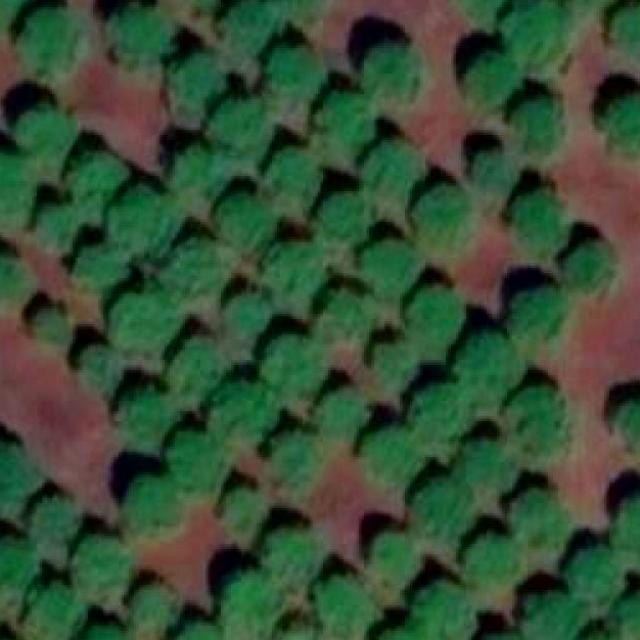Tree: (502, 383, 571, 455), (108, 188, 178, 258), (507, 186, 574, 258), (359, 43, 428, 112), (108, 288, 178, 355), (502, 0, 566, 72), (19, 5, 84, 72), (311, 572, 377, 637), (159, 237, 229, 297), (211, 380, 272, 445), (311, 189, 372, 254), (103, 0, 173, 56), (509, 585, 579, 640), (116, 380, 178, 442), (410, 380, 469, 445), (410, 184, 469, 248), (507, 484, 569, 544), (561, 234, 623, 294), (21, 580, 86, 636), (264, 334, 323, 394), (418, 577, 474, 640), (507, 91, 566, 150), (264, 43, 323, 102), (122, 472, 178, 534), (159, 430, 221, 486), (67, 534, 129, 590), (221, 567, 277, 629), (461, 532, 523, 588), (357, 238, 421, 292), (362, 140, 423, 196), (413, 474, 469, 534), (459, 436, 515, 496), (170, 339, 224, 401), (408, 283, 462, 343), (364, 528, 423, 582), (458, 334, 517, 388), (262, 240, 323, 292), (515, 288, 577, 338), (267, 426, 318, 486), (216, 192, 272, 246), (170, 54, 224, 110), (316, 94, 372, 148), (362, 426, 416, 481), (214, 94, 268, 148), (262, 524, 313, 580), (267, 146, 318, 202), (64, 150, 124, 197), (30, 496, 84, 547), (219, 0, 273, 51), (467, 50, 522, 99), (316, 382, 367, 432), (16, 108, 70, 154), (76, 342, 126, 391), (219, 286, 270, 334), (321, 294, 375, 339), (601, 94, 640, 155), (70, 246, 121, 292), (0, 442, 39, 500), (371, 340, 420, 386), (568, 546, 614, 595), (611, 488, 640, 562), (175, 145, 221, 191), (0, 150, 32, 215), (40, 202, 86, 246), (129, 582, 175, 626), (601, 2, 640, 53), (221, 486, 265, 530), (0, 252, 32, 308), (0, 534, 32, 590), (472, 150, 512, 194), (27, 300, 62, 340), (614, 592, 640, 640), (268, 620, 328, 640), (616, 396, 640, 446), (371, 622, 435, 640), (70, 620, 126, 640), (170, 622, 226, 640), (0, 0, 27, 28), (471, 627, 527, 640), (260, 0, 326, 10), (165, 0, 226, 7)
